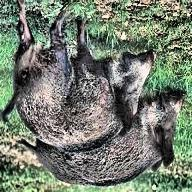boar: (2, 16, 160, 158)
